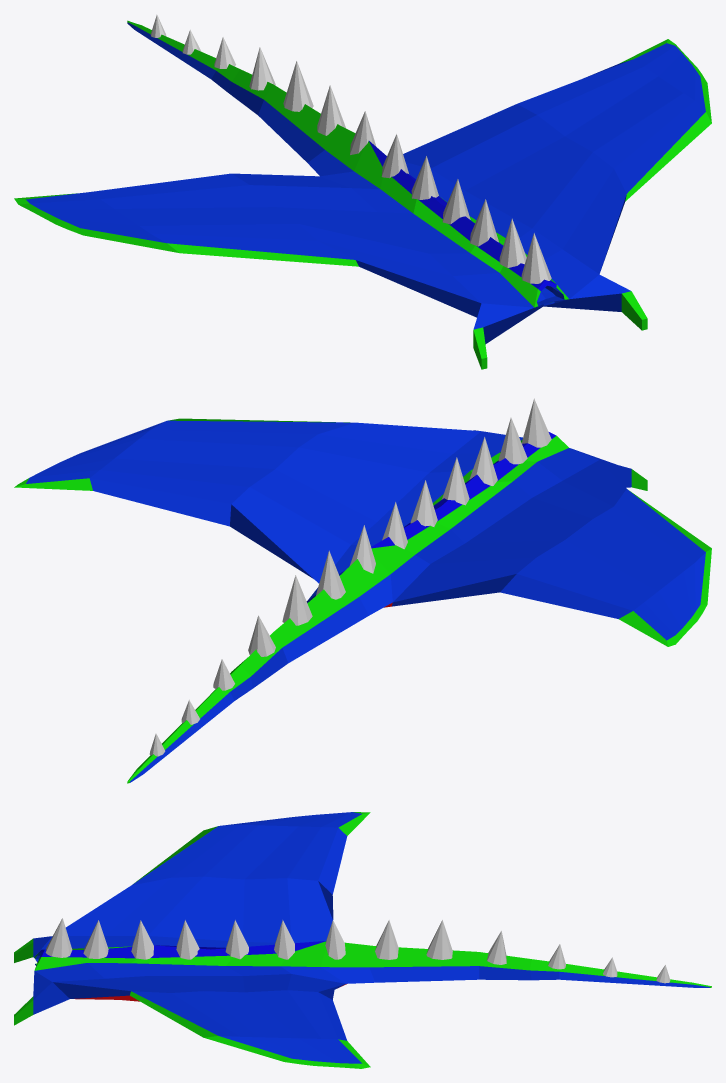
The model's file is Ray2.fbx.
The picture shows the model from 3 angles, top to bottom: view 1: azimuth 30°, elevation 25°; view 2: azimuth 150°, elevation 25°; view 3: azimuth 270°, elevation 25°; orthographic projection. The views are drawn at different scales.
Parts seen in each view (by area): view 1: Cube; view 2: Cube; view 3: Cube.
Boxes of the visible parts, x1,y1,x2,y2 form: Cube: (14, 15, 711, 369); Cube: (14, 398, 711, 783); Cube: (14, 812, 711, 1068).
Size of the model in its own units: 5.36 by 0.7395 by 6.18.
